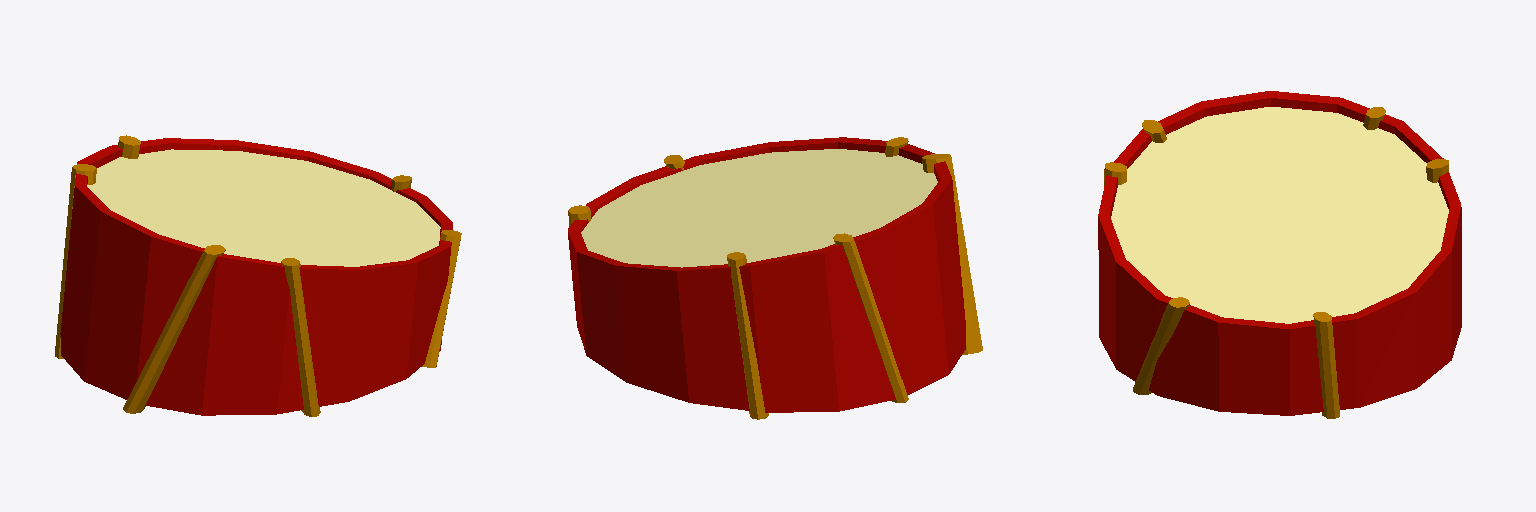
The picture shows the model from 3 angles: view 1: azimuth 30°, elevation 25°; view 2: azimuth 150°, elevation 25°; view 3: azimuth 270°, elevation 25°; orthographic projection.
Parts seen in each view (by area): view 1: Drum_msh; view 2: Drum_msh; view 3: Drum_msh.
Boxes of the visible parts, box(x1,y1,x2,y2) form: Drum_msh: box(55, 135, 461, 416); Drum_msh: box(568, 137, 982, 419); Drum_msh: box(1098, 91, 1461, 418).
Size of the model in its own units: 0.3111 by 0.1469 by 0.2775.
Materials: 1 (1 with a texture image).